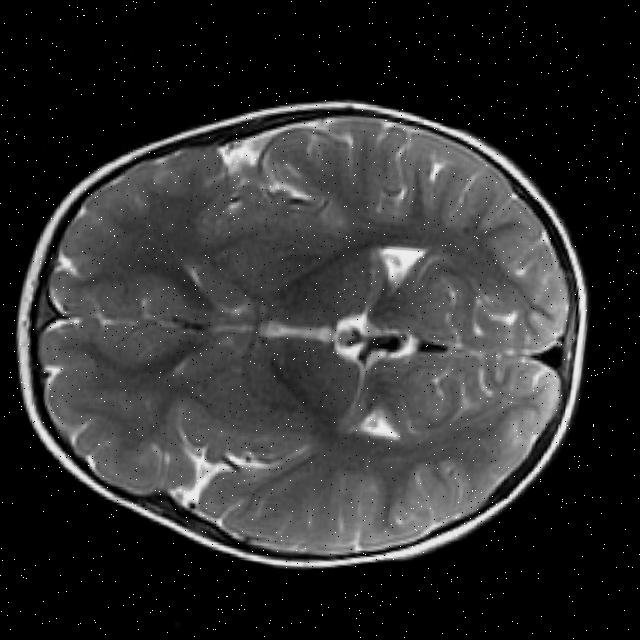NoTumor: (5, 87, 600, 579)
